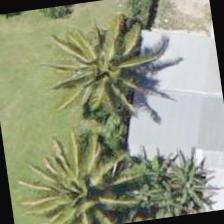Kelapa_Sawit: (48, 18, 150, 120), (31, 145, 132, 223)
